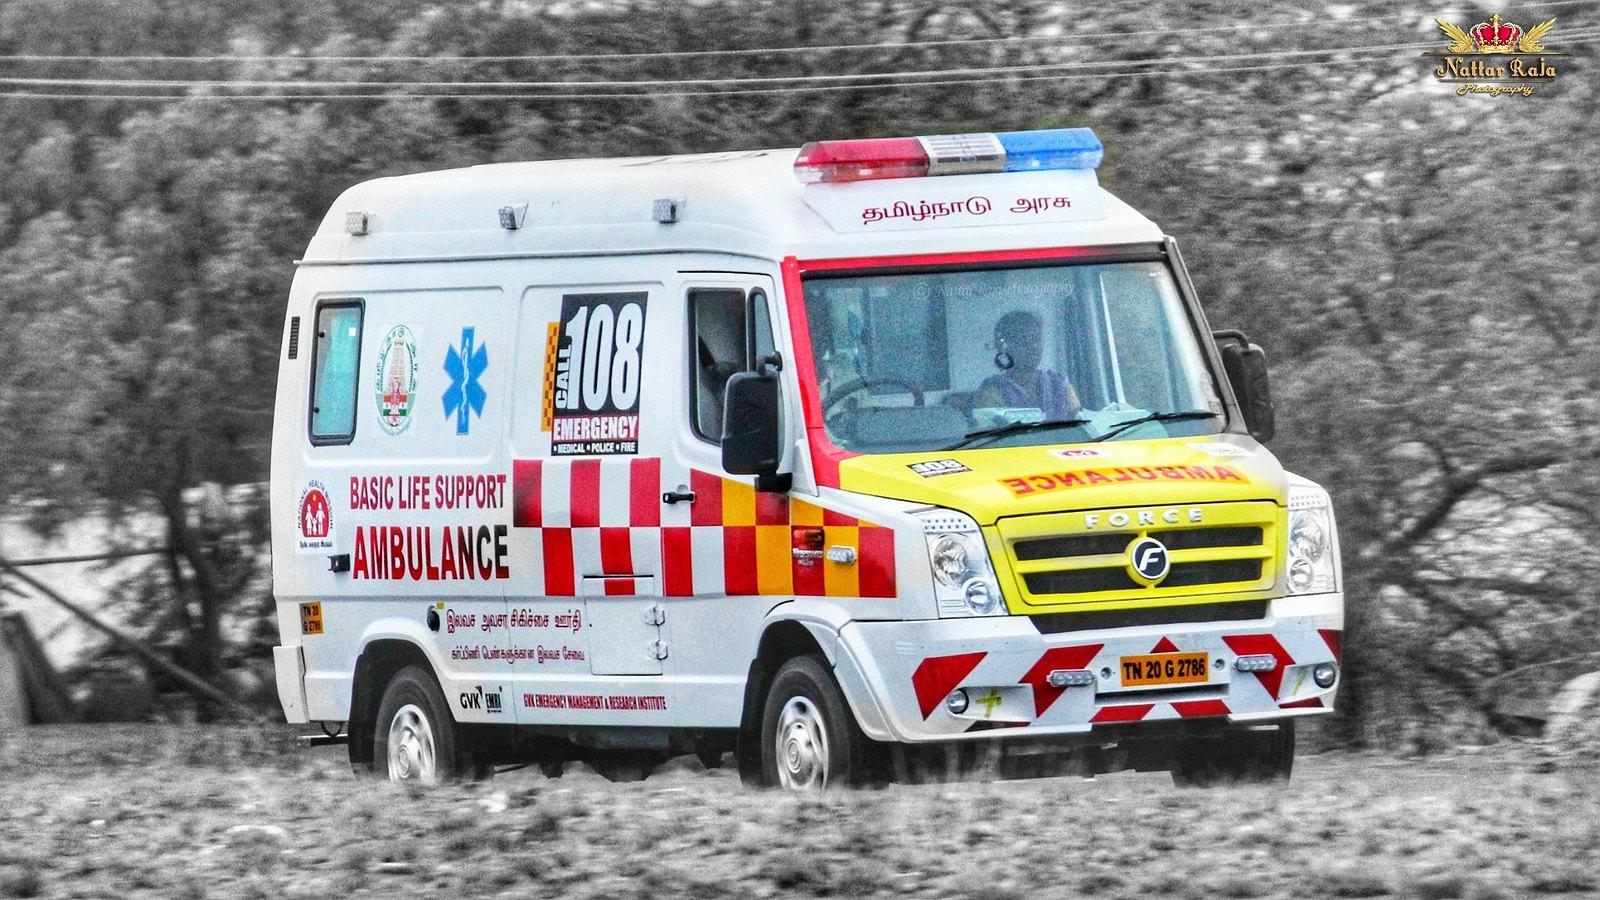ER: (270, 129, 1348, 795)
